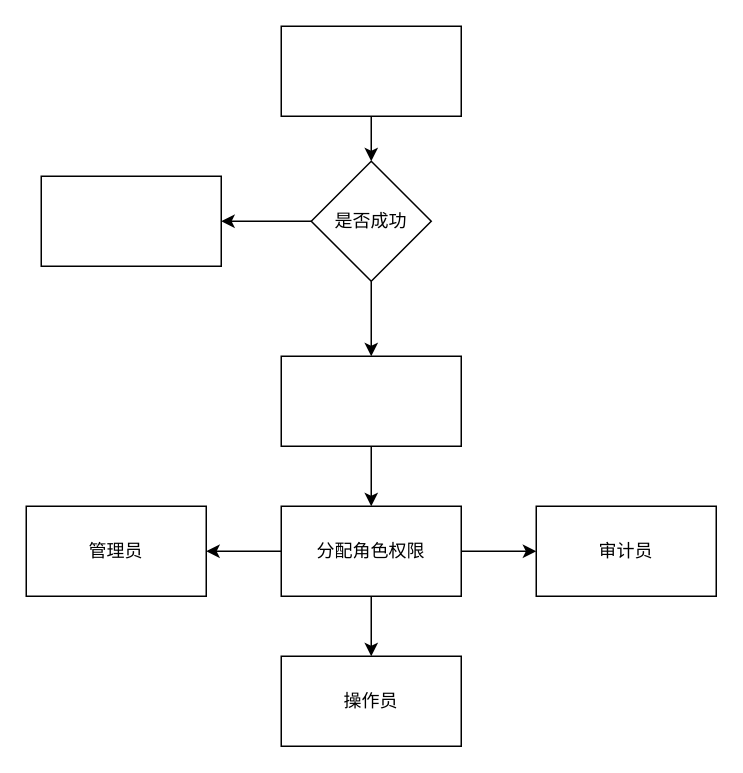
Image size: 743x773. Some labels were removed from this diagram. Each missing label, with the centre of its shape:
"注册失败" goes at pixel 130 220.
"注册成功" goes at pixel 370 400.
"用户注册" goes at pixel 370 70.
